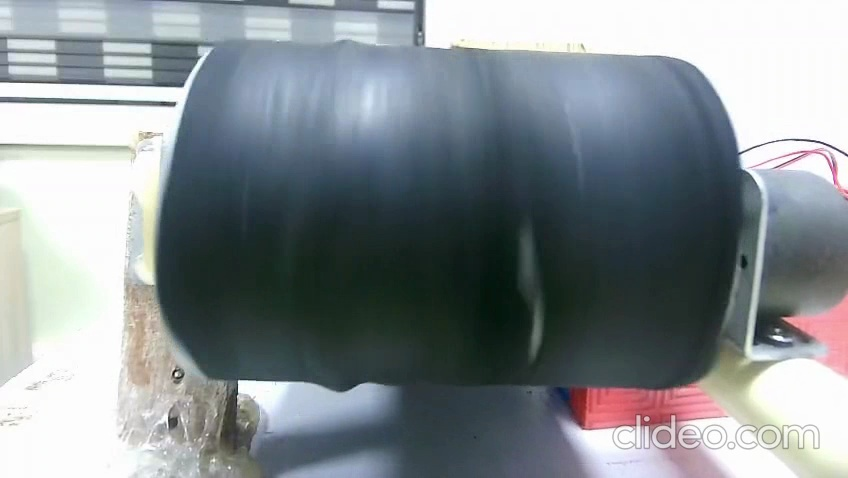tear: (514, 210, 550, 370)
